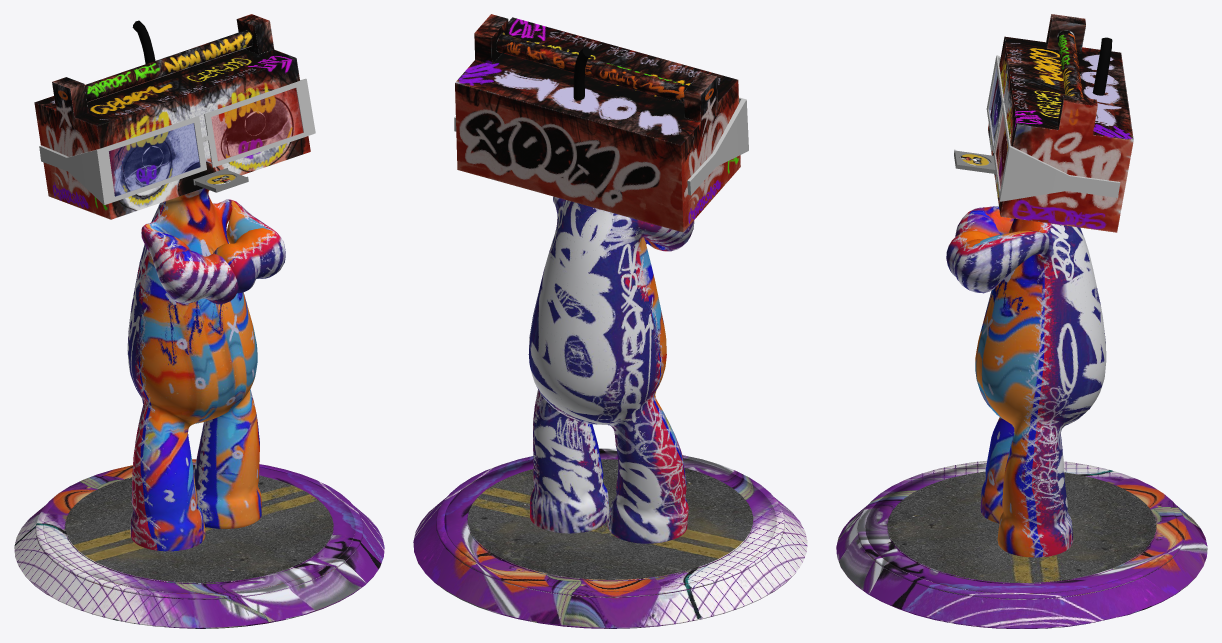
3 views of the same model, side by side, from view 1: azimuth 30°, elevation 25°; view 2: azimuth 150°, elevation 25°; view 3: azimuth 270°, elevation 25° (orthographic). The views are drawn at different scales.
Parts seen in each view (by area): view 1: BBody; view 2: BBody; view 3: BBody.
Part boxes in pixels (<box>): BBody: <box>14,14,384,628</box>; BBody: <box>413,14,807,628</box>; BBody: <box>836,14,1207,628</box>.
Bounding box in the file's own units: 1.45 × 2.17 × 1.45.
12 materials, 5 textured.
